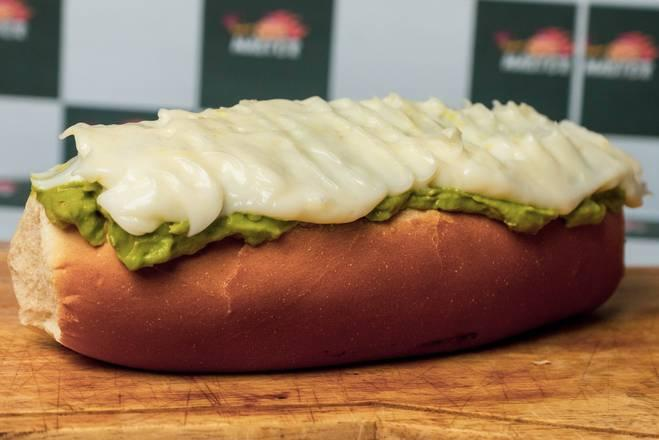Completos: (14, 79, 637, 362)
